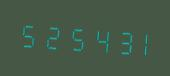five: (17, 15, 38, 52), (62, 18, 83, 55)
four: (84, 19, 105, 57)
one: (128, 23, 149, 60)
three: (106, 21, 127, 58)
two: (39, 16, 60, 54)
